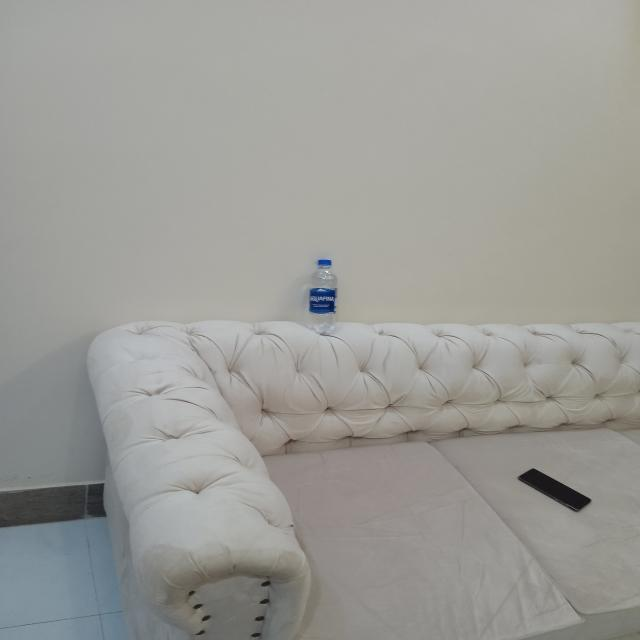Plastic: (304, 254, 342, 337)
